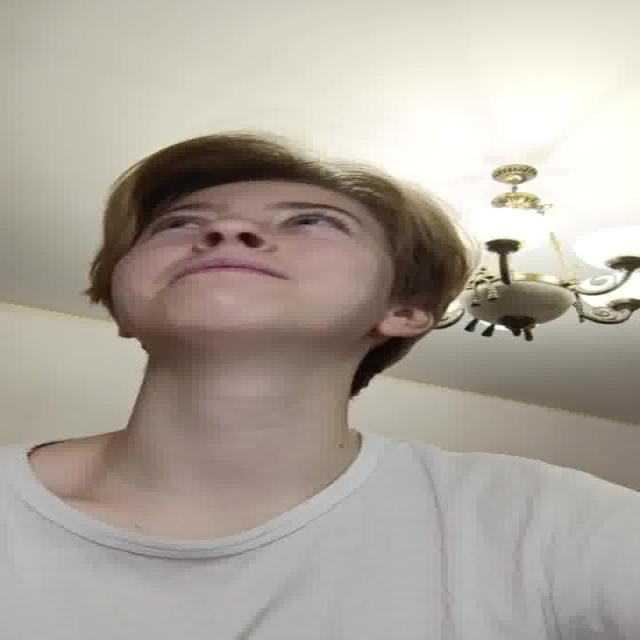earlobe: (377, 293, 441, 338)
